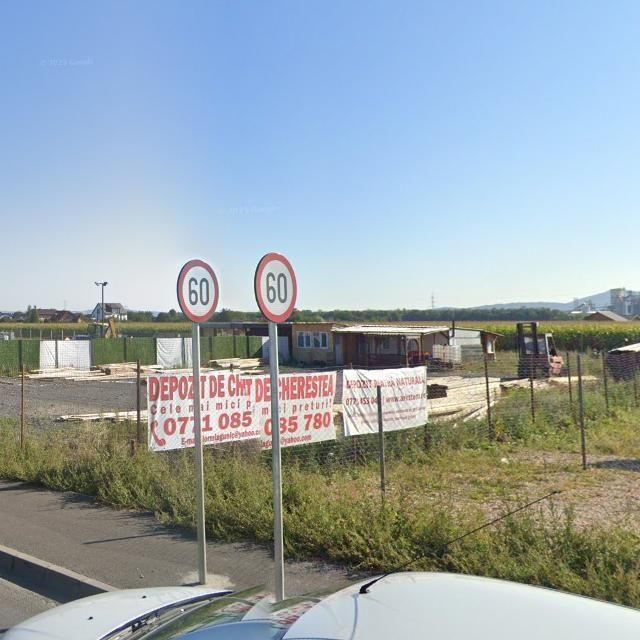forb_speed_over_60: (254, 253, 298, 323), (176, 259, 219, 324)
